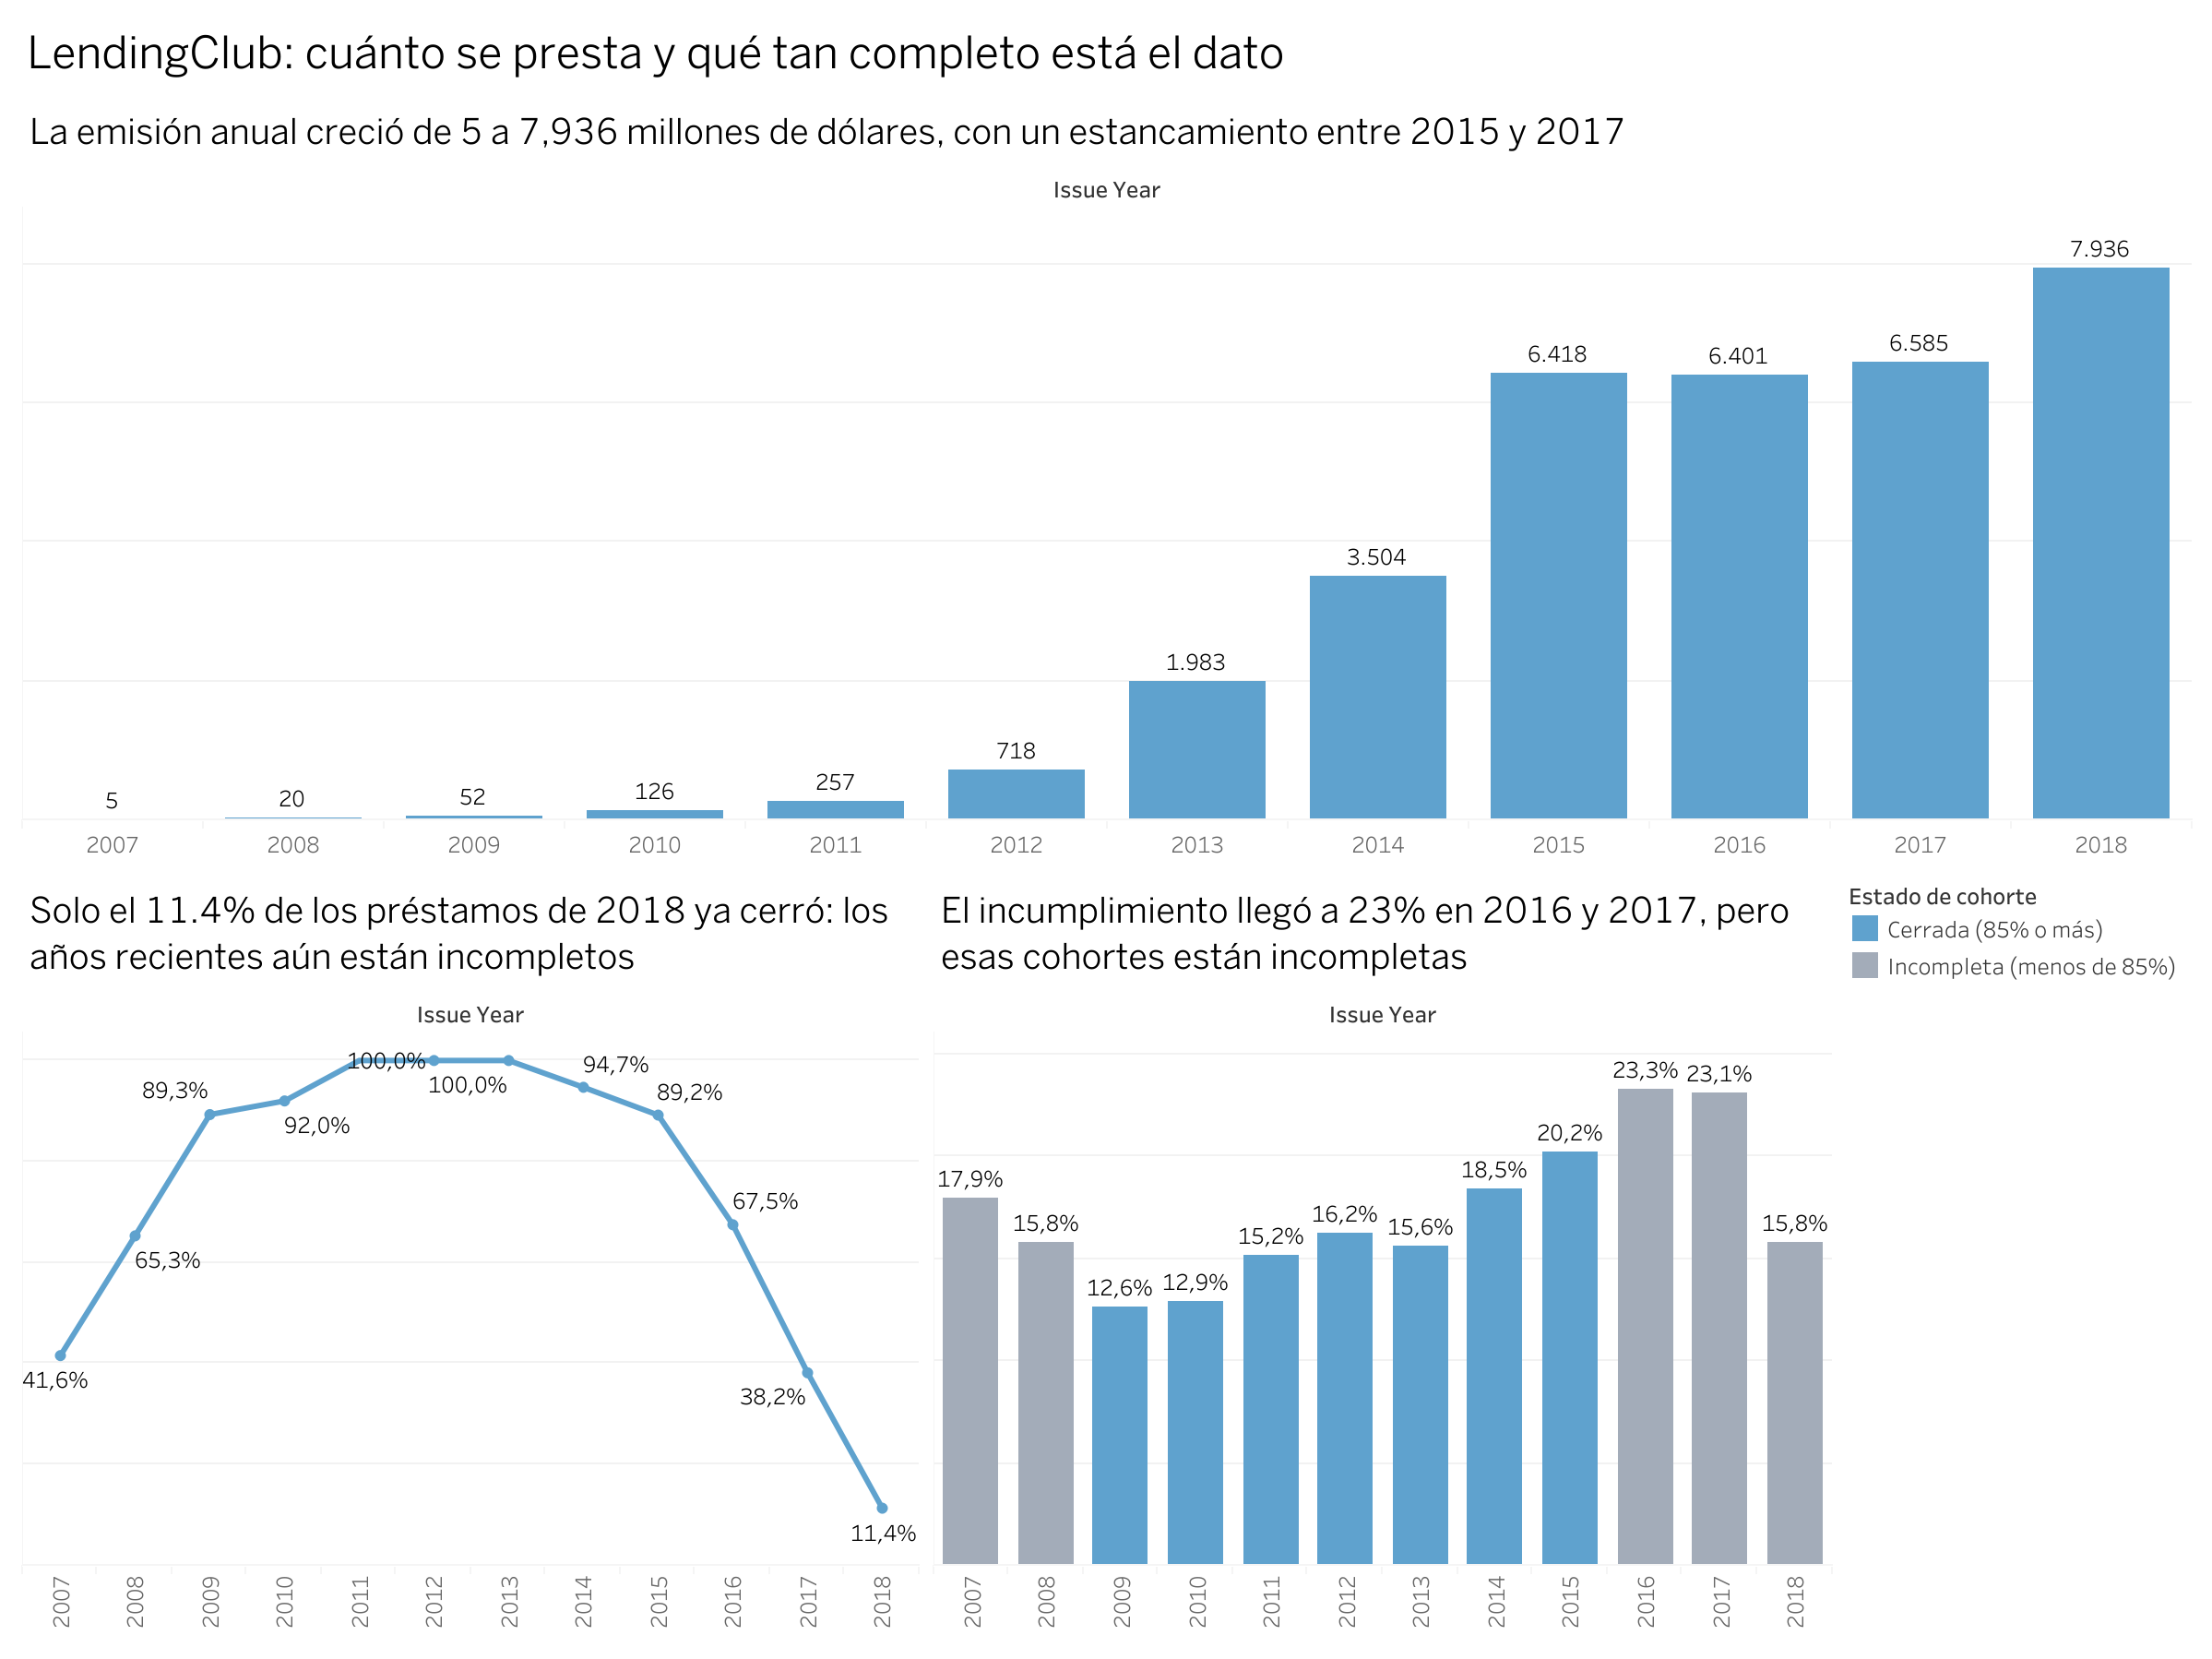

What the dashboard file says about the page in this screenshot:
{"tool":"tableau","page":{"name":"1 · Cuánto se presta","canvas":[1200,900],"ordinal":0},"visuals":[{"type":"title","box":[8,8,1184,39]},{"type":"worksheet","title":"Emisión por año","mark":"Automatic","rows":["funded_issued_millions"],"cols":["issue_year"],"box":[8,47,1184,422.4]},{"type":"worksheet","title":"Cerrados por año","mark":"Line","rows":["pct_closed"],"cols":["issue_year"],"box":[8,469.4,494.5,422.6]},{"type":"worksheet","title":"Incumplimiento por año","mark":"Bar","rows":["default_rate_closed_pct"],"cols":["issue_year"],"box":[502.5,469.4,494.5,422.6]},{"type":"legend","title":"Incumplimiento por año","param":"[federated.1rcbmc01f614pq18if9220ltu97b].[none:Calculation_1103960601616384:nk]","box":[997,469.4,195,66]}]}

Visuals, with their boxes in screenshot pixels (x1, y1, x2, y2), scaled from the page's 1200x900 canvas onto the 2212x1659 screenshot:
title: [x1=15, y1=15, x2=2197, y2=87]
"Emisión por año" worksheet: [x1=15, y1=87, x2=2197, y2=865]
"Cerrados por año" worksheet (Line marks): [x1=15, y1=865, x2=926, y2=1644]
"Incumplimiento por año" worksheet (Bar marks): [x1=926, y1=865, x2=1837, y2=1644]
"Incumplimiento por año" legend: [x1=1837, y1=865, x2=2197, y2=987]
